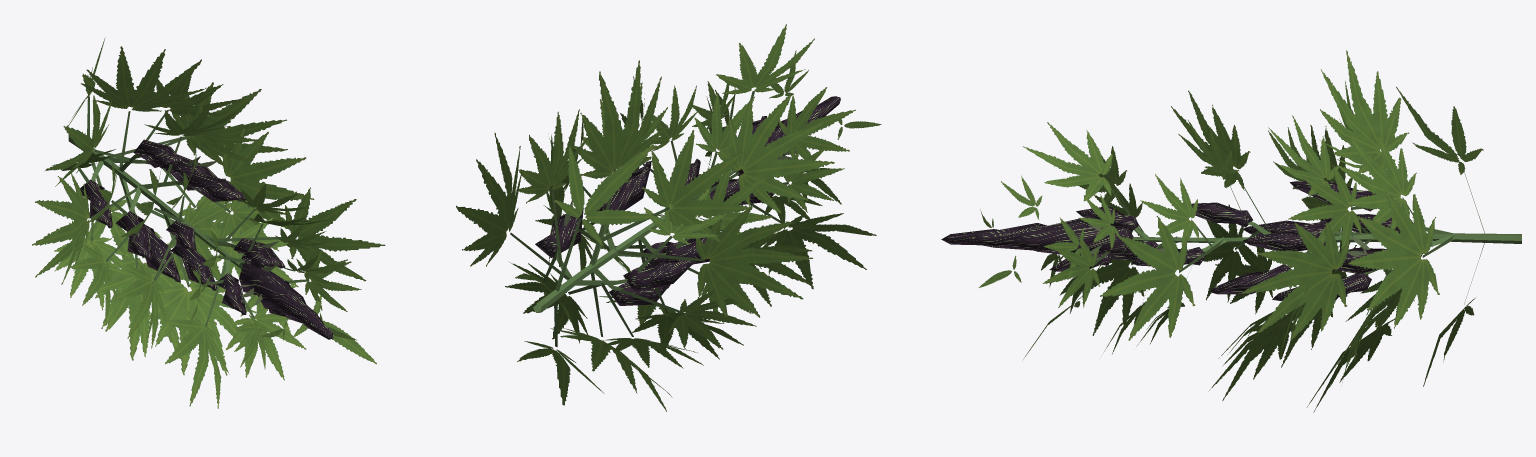
Rendered from p_dark_landrace_flowering_c0_cards.obj.
3 renders of one model, left to right at view 1: azimuth 30°, elevation 25°; view 2: azimuth 150°, elevation 25°; view 3: azimuth 270°, elevation 25°, orthographic. The views are drawn at different scales.
Bounding box in the file's own units: 1.51 × 1.58 × 2.12.
Materials: 1 (1 with a texture image).
